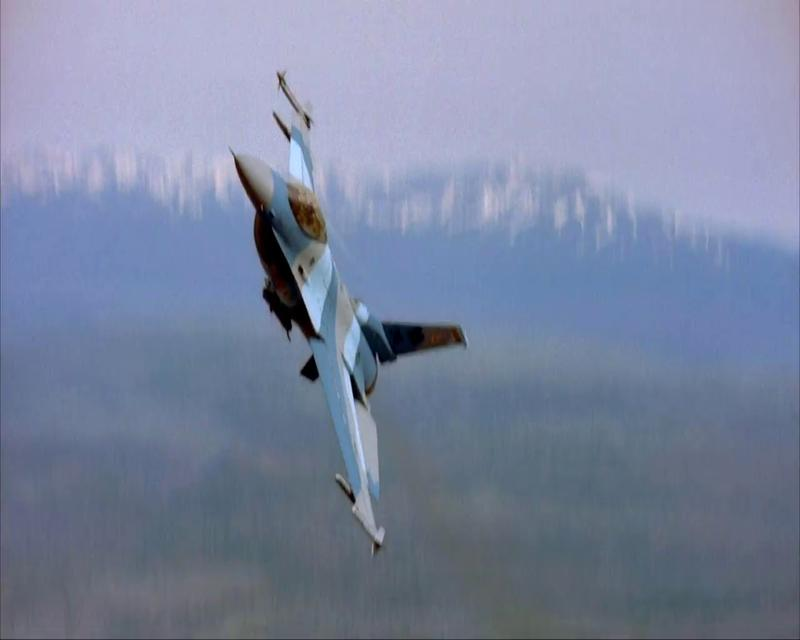UAV: (226, 67, 469, 555)
